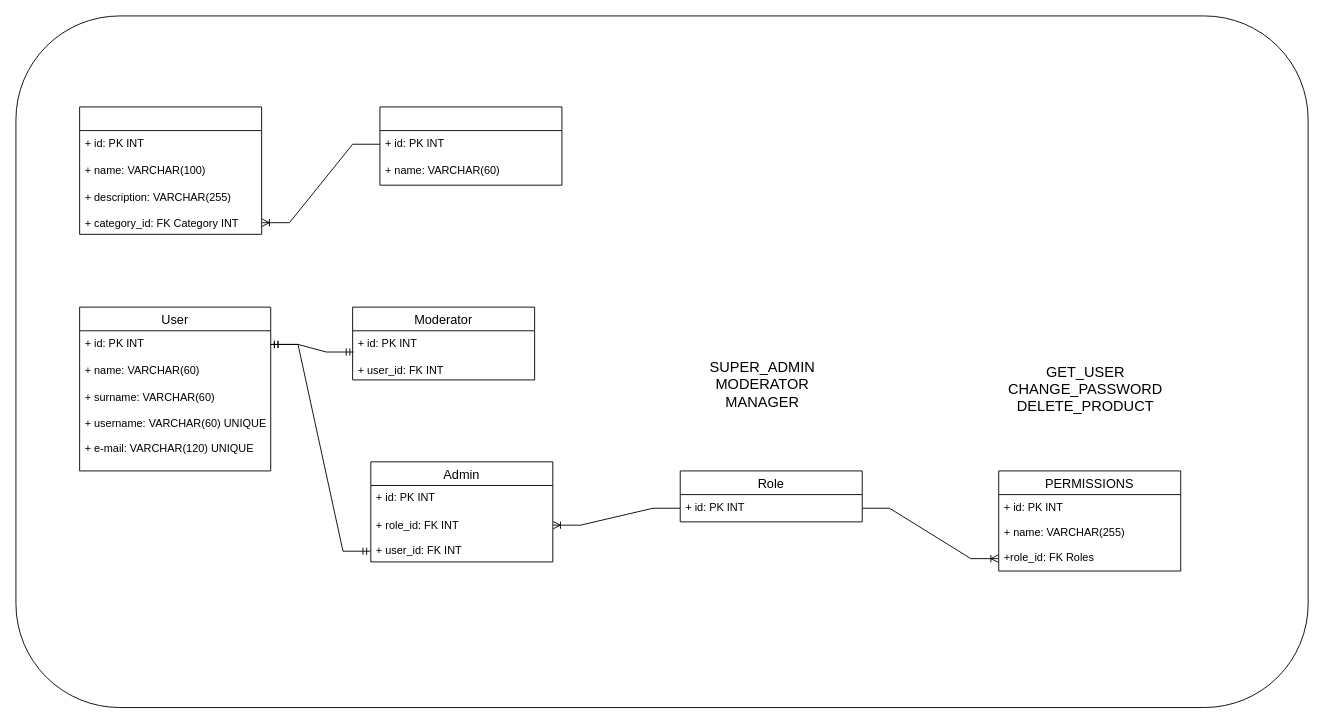
Some shapes in this 1324 by 723 pixel diagram are drawn without their labels. Each missing label, with the box of its shape:
Category: (379, 106, 562, 185)
Record: (79, 106, 262, 234)
